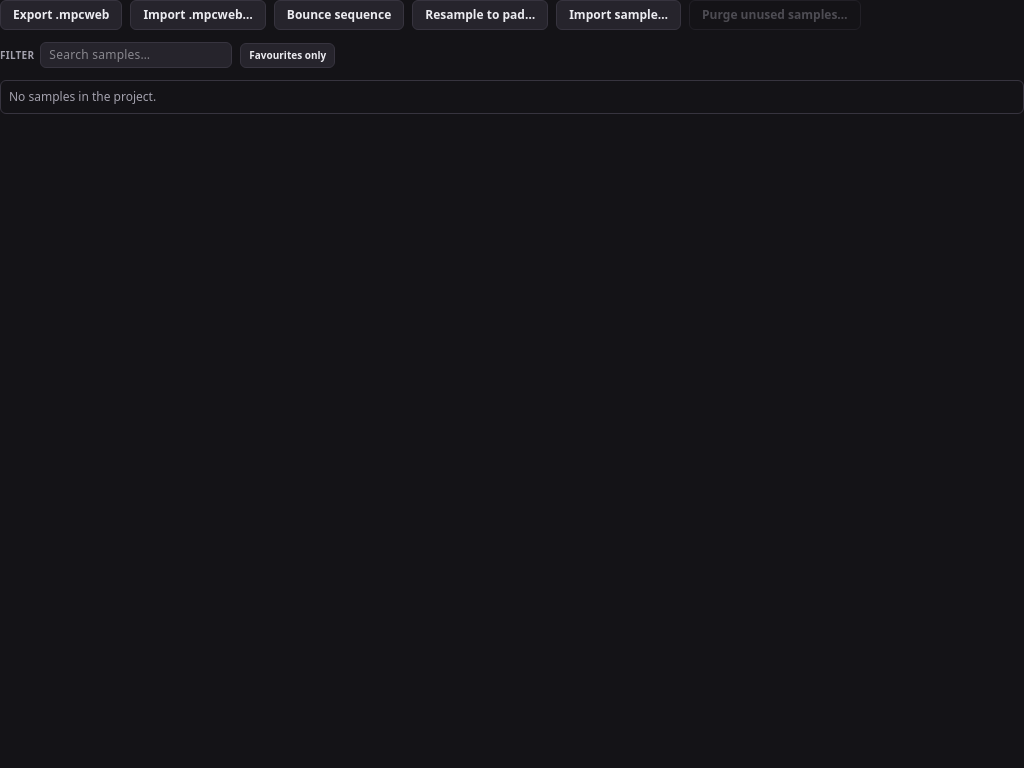
it: resample to pad (spec §9.5, issue #104) › creates the sample and opens the target chooser on it
Click the button with test id "resample-to-pad" at coordinates (480, 15), box left=412, top=0, right=548, bottom=30
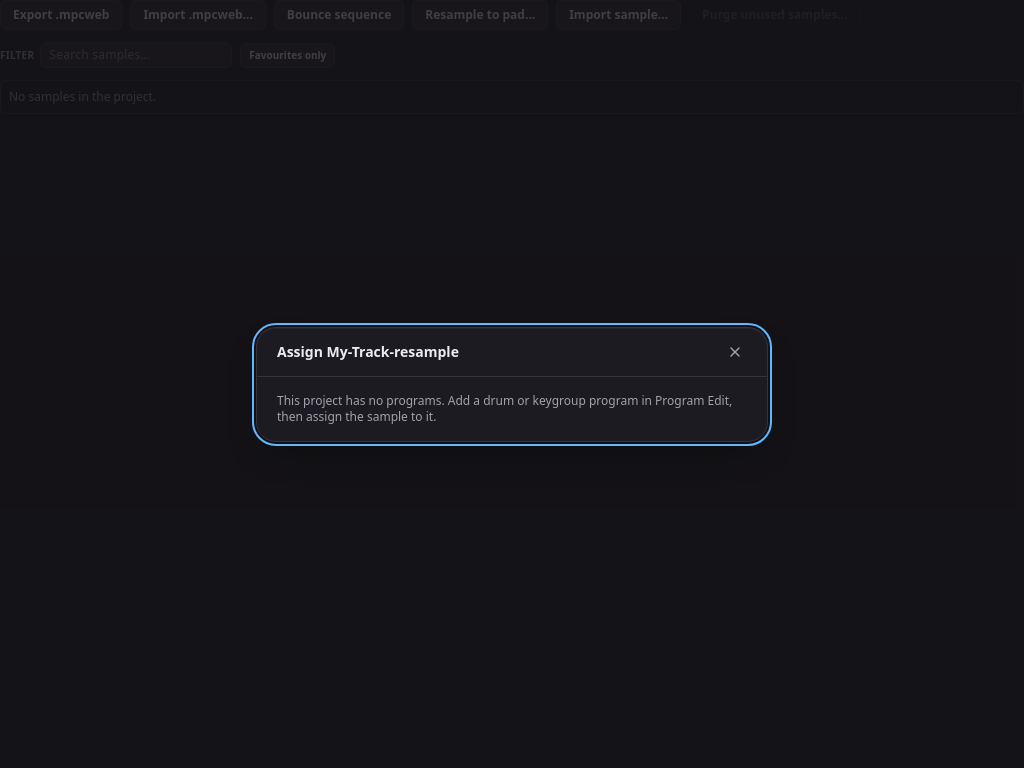
Expected: the dialog shows "My-Track-resample", left=277, top=342, right=459, bottom=360
